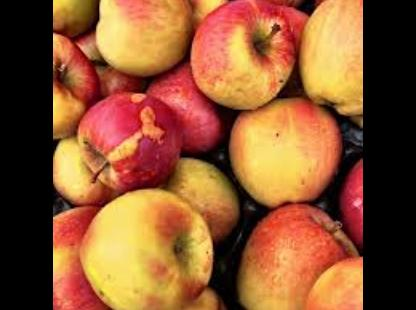defect: (102, 90, 170, 166), (135, 266, 207, 310)
